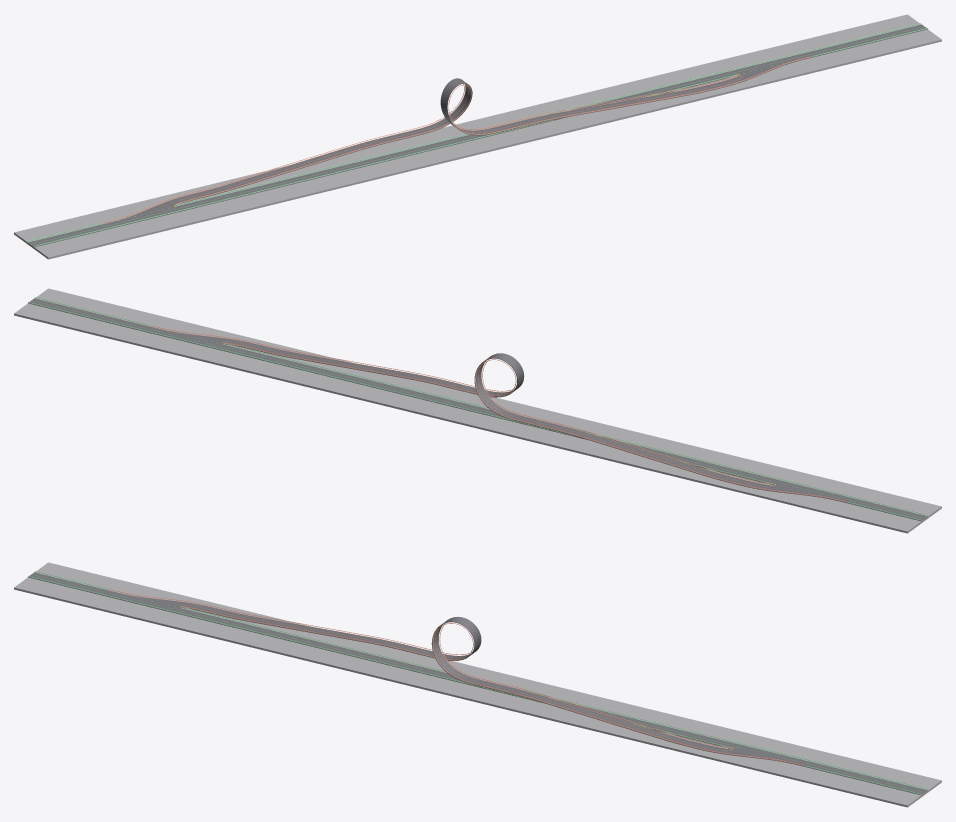
File: lp01_loop_proof_v2.glb
The picture shows the model from 3 angles, top to bottom: view 1: azimuth 30°, elevation 25°; view 2: azimuth 150°, elevation 25°; view 3: azimuth 330°, elevation 25°; orthographic projection.
Visible parts, largest first — view 1: LP01_bridge_deck, LP01_loop_branch_deck, LP01_through_deck_B, LP01_rib_through_barrierL, LP01_rib_loop_branch_barrierR, LP01_rib_through_barrierR, LP01_through_deck_C, LP01_rib_loop_branch_barrierL, LP01_rib_through_edgeL, LP01_rib_through_edgeR, LP01_junction_merge_deck, LP01_junction_split_deck (+3 smaller); view 2: LP01_bridge_deck, LP01_loop_branch_deck, LP01_through_deck_B, LP01_rib_loop_branch_barrierL, LP01_rib_through_barrierR, LP01_rib_through_barrierL, LP01_rib_loop_branch_barrierR, LP01_through_deck_C, LP01_rib_through_edgeR, LP01_rib_through_edgeL, LP01_rib_loop_branch_edgeR, LP01_rib_loop_branch_edgeL (+3 smaller); view 3: LP01_bridge_deck, LP01_loop_branch_deck, LP01_through_deck_B, LP01_rib_loop_branch_barrierR, LP01_rib_through_barrierL, LP01_rib_through_barrierR, LP01_rib_loop_branch_barrierL, LP01_through_deck_C, LP01_rib_through_edgeL, LP01_rib_through_edgeR, LP01_junction_split_deck, LP01_rib_loop_branch_edgeL (+3 smaller).
Boxes of the visible parts, x1,y1,x2,y2 form: LP01_bridge_deck: (14, 14, 941, 259); LP01_loop_branch_deck: (167, 76, 746, 205); LP01_through_deck_B: (174, 70, 738, 211); LP01_rib_through_barrierL: (28, 23, 921, 241); LP01_rib_loop_branch_barrierR: (175, 56, 810, 204); LP01_rib_through_barrierR: (34, 28, 927, 246); LP01_through_deck_C: (805, 24, 927, 57); LP01_rib_loop_branch_barrierL: (102, 74, 738, 222); LP01_rib_through_edgeL: (28, 24, 921, 242); LP01_rib_through_edgeR: (34, 28, 927, 246); LP01_junction_merge_deck: (733, 53, 810, 80); LP01_junction_split_deck: (103, 201, 180, 228); LP01_bridge_deck: (14, 288, 941, 533); LP01_loop_branch_deck: (225, 339, 773, 490); LP01_through_deck_B: (217, 344, 781, 485); LP01_rib_loop_branch_barrierL: (225, 343, 846, 501); LP01_rib_through_barrierR: (34, 297, 927, 515); LP01_rib_through_barrierL: (28, 302, 921, 520); LP01_rib_loop_branch_barrierR: (152, 325, 772, 484); LP01_through_deck_C: (28, 298, 150, 331); LP01_rib_through_edgeR: (34, 298, 927, 516); LP01_rib_through_edgeL: (28, 302, 921, 520); LP01_rib_loop_branch_edgeR: (151, 327, 771, 485); LP01_rib_loop_branch_edgeL: (227, 343, 846, 502); LP01_bridge_deck: (14, 562, 941, 807); LP01_loop_branch_deck: (182, 603, 730, 754); LP01_through_deck_B: (174, 608, 738, 748); LP01_rib_loop_branch_barrierR: (183, 606, 803, 765); LP01_rib_through_barrierL: (34, 571, 927, 789); LP01_rib_through_barrierR: (28, 576, 921, 794); LP01_rib_loop_branch_barrierL: (109, 589, 730, 748); LP01_through_deck_C: (804, 762, 927, 795); LP01_rib_through_edgeL: (34, 572, 927, 790); LP01_rib_through_edgeR: (28, 576, 921, 794); LP01_junction_split_deck: (102, 590, 186, 612); LP01_rib_loop_branch_edgeL: (108, 590, 730, 749).
Size of the model in its own units: 960 by 62.99 by 64.
